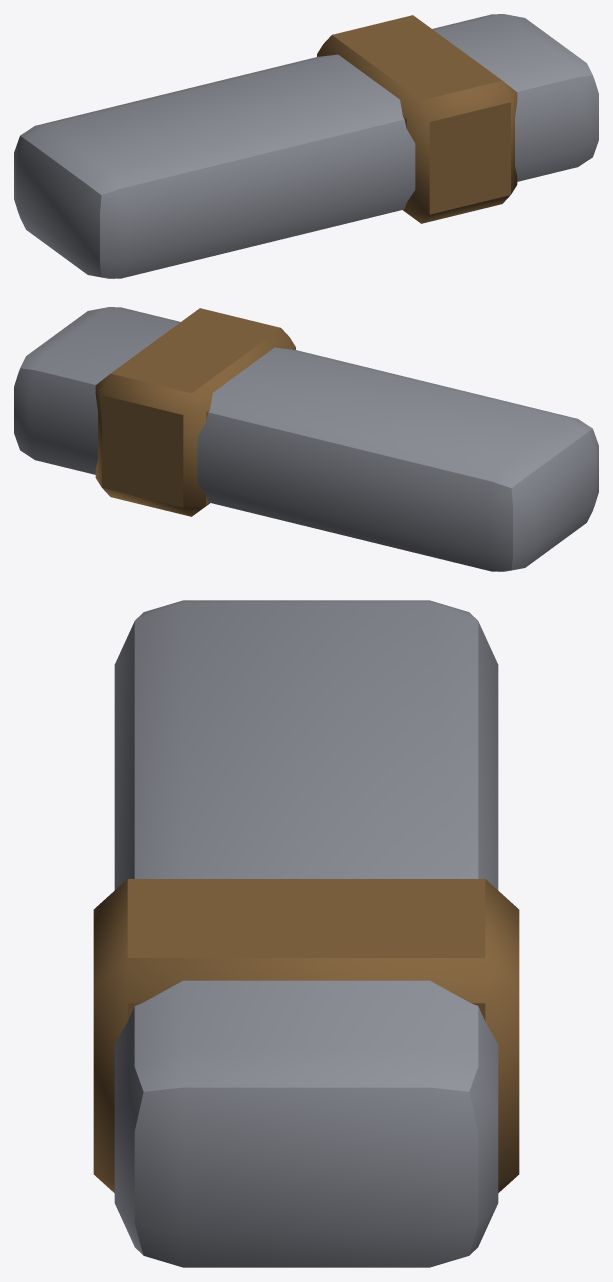
File: keen_tonic.glb
3 views of the same model, one above another, from view 1: azimuth 30°, elevation 25°; view 2: azimuth 150°, elevation 25°; view 3: azimuth 270°, elevation 25° (orthographic). The views are drawn at different scales.
Visible parts, largest first — view 1: whetstone; view 2: whetstone; view 3: whetstone.
Part boxes in pixels (x1,y1,x2,y2): whetstone: (14, 14, 598, 278); whetstone: (14, 307, 598, 571); whetstone: (93, 600, 519, 1267).
Size of the model in its own units: 0.14 by 0.032 by 0.05.
